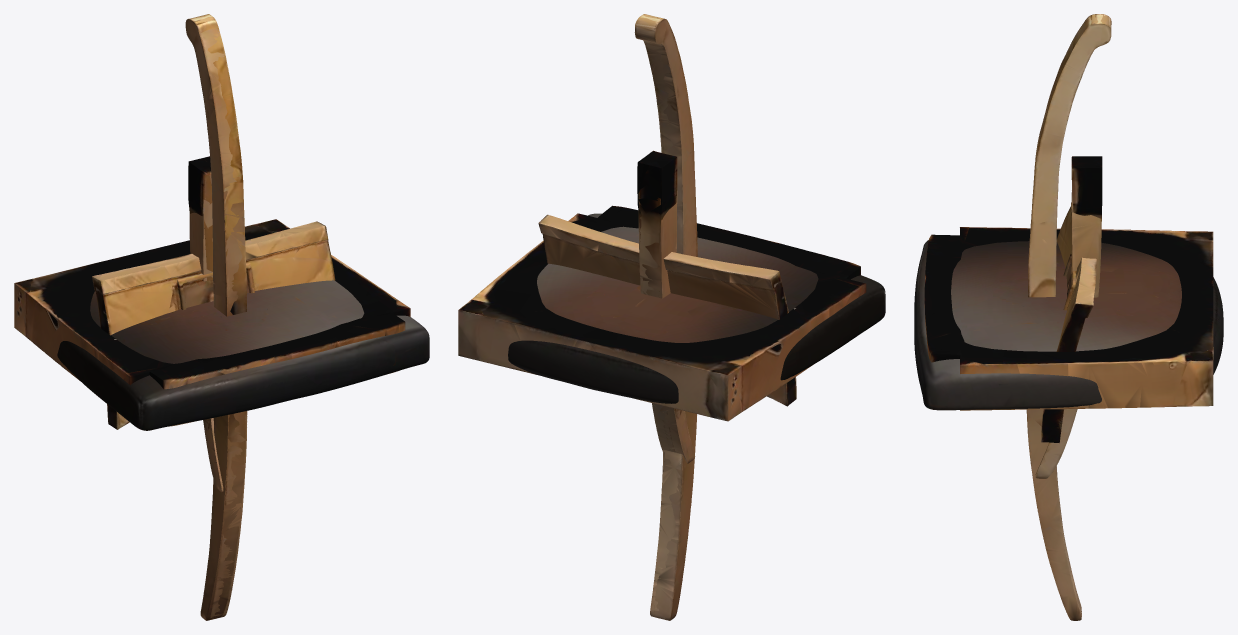
The picture shows the model from 3 angles, left to right: view 1: azimuth 30°, elevation 25°; view 2: azimuth 150°, elevation 25°; view 3: azimuth 270°, elevation 25°; orthographic projection. The views are drawn at different scales.
Parts seen in each view (by area): view 1: root.1, root.0, root.2, root.4, root.3, root.5, root.6; view 2: root.0, root.1, root.2, root.4, root.3, root.5, root.6; view 3: root.1, root.0, root.3, root.4, root.2, root.6, root.5.
Boxes of the visible parts, box(x1,y1,x2,y2) form: root.1: box(57, 280, 429, 430); root.0: box(14, 219, 410, 426); root.2: box(92, 221, 335, 429); root.4: box(185, 15, 247, 619); root.3: box(190, 14, 246, 620); root.5: box(189, 156, 223, 492); root.6: box(188, 156, 244, 484); root.0: box(458, 205, 866, 421); root.1: box(508, 213, 885, 403); root.2: box(538, 214, 796, 406); root.4: box(635, 14, 697, 619); root.3: box(634, 14, 696, 620); root.5: box(637, 151, 695, 463); root.6: box(638, 150, 677, 452); root.1: box(914, 235, 1223, 410); root.0: box(924, 227, 1213, 410); root.3: box(1027, 14, 1111, 616); root.4: box(1026, 14, 1111, 620); root.2: box(1041, 202, 1096, 442); root.6: box(1035, 156, 1102, 478); root.5: box(1071, 156, 1102, 253).
Size of the model in its own units: 13680 by 26541 by 12443.
Materials: 1 (1 with a texture image).
